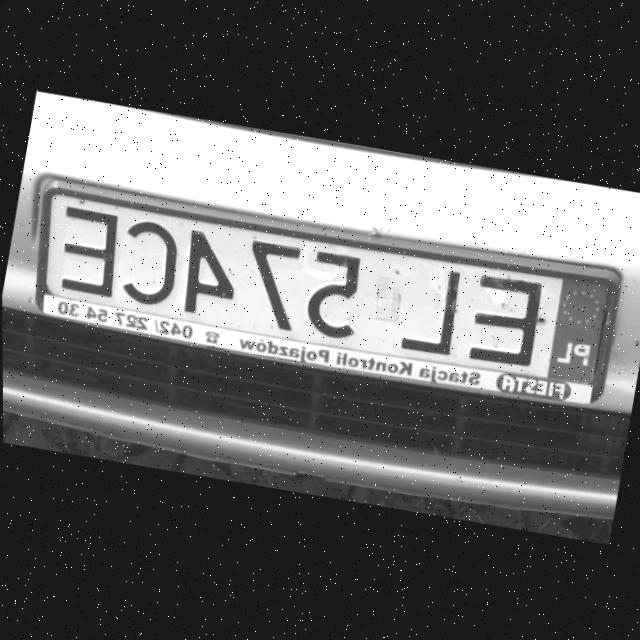license-plates: (35, 178, 620, 404)
